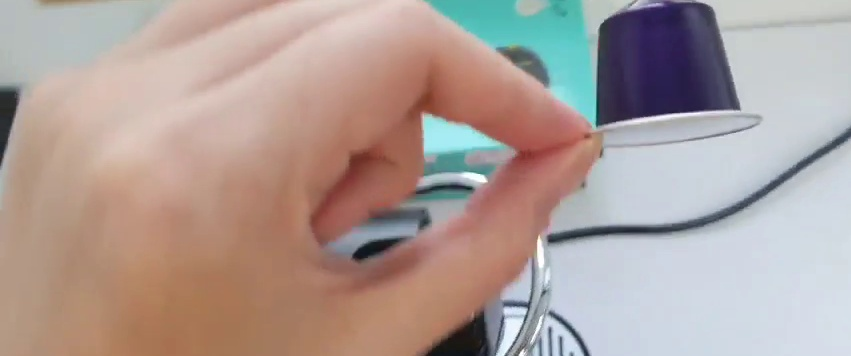capsule_11: (585, 1, 766, 152)
